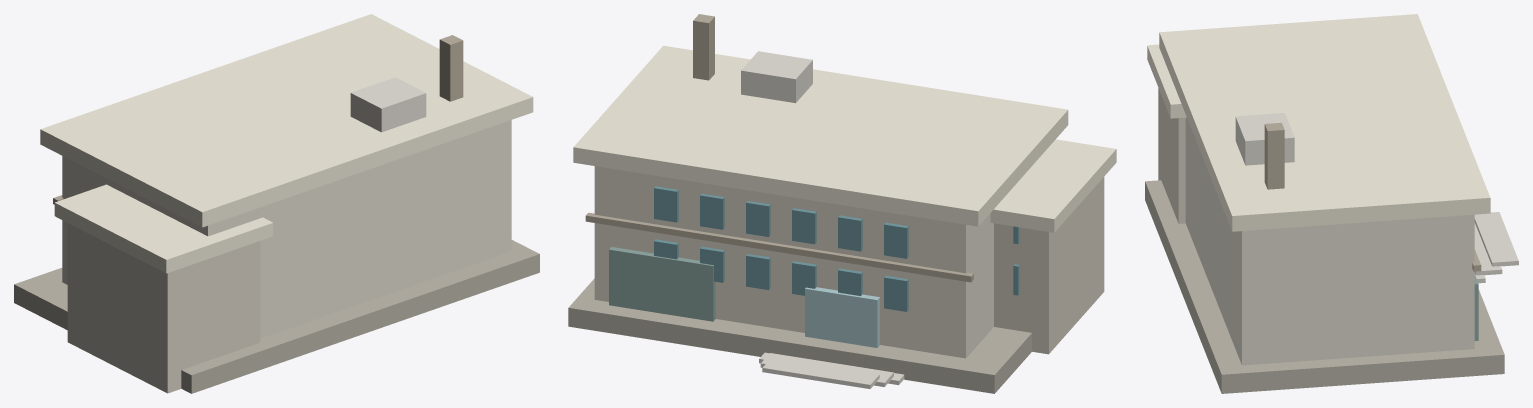
Rendered from practice-overview.glb.
The picture shows the model from 3 angles, left to right: view 1: azimuth 30°, elevation 25°; view 2: azimuth 150°, elevation 25°; view 3: azimuth 270°, elevation 25°; orthographic projection. The views are drawn at different scales.
Bounding box in the file's own units: 22.49 × 11.33 × 16.28.
